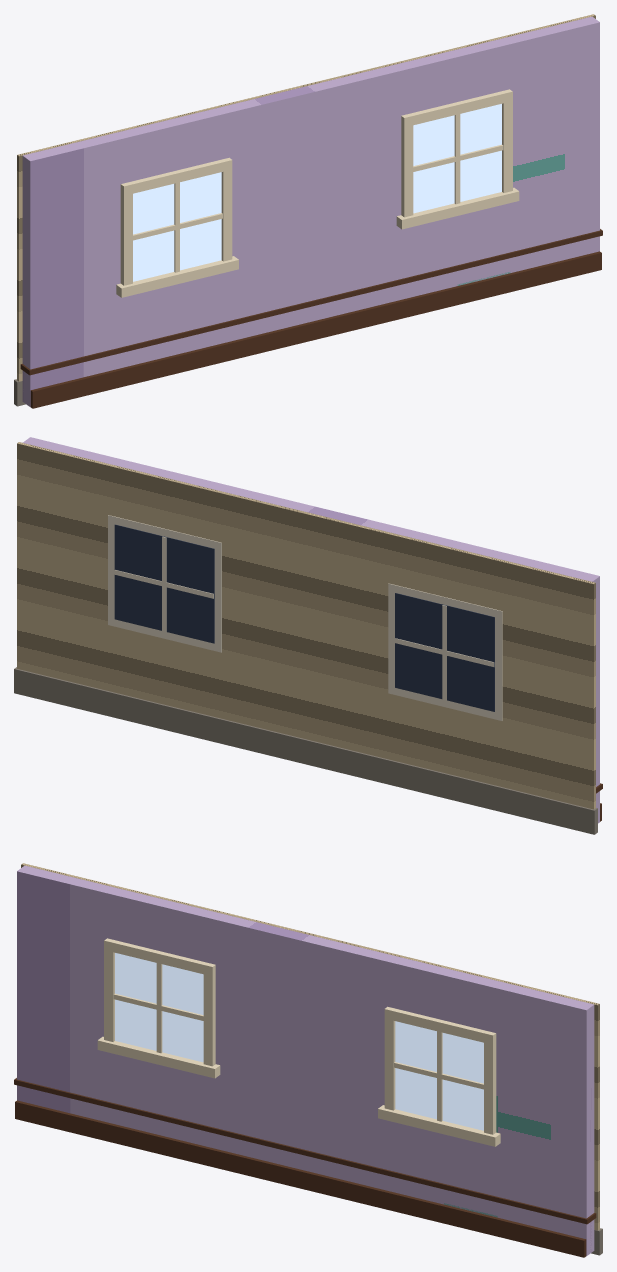
The model's file is wing_north.glb.
3 views of the same model, one above another, from view 1: azimuth 30°, elevation 25°; view 2: azimuth 150°, elevation 25°; view 3: azimuth 330°, elevation 25° (orthographic).
Visible parts, largest first — view 1: Box1, Box2, Box27, Box24, Box13, Box28, Box3, Box21, Box10, Box9, Box20, Box23 (+7 smaller); view 2: Box3, Box4, Box17, Box6, Box1, Box5, Box16, Box19, Box8; view 3: Box1, Box2, Box27, Box13, Box24, Box28, Box3, Box10, Box21, Box20, Box9, Box11 (+7 smaller).
Part boxes in pixels (left/top/right/bottom): Box1: left=22, top=16, right=599, bottom=407; Box2: left=30, top=251, right=601, bottom=408; Box27: left=22, top=236, right=599, bottom=405; Box24: left=413, top=104, right=501, bottom=213; Box13: left=133, top=172, right=221, bottom=281; Box28: left=20, top=229, right=602, bottom=375; Box3: left=17, top=14, right=595, bottom=381; Box21: left=396, top=187, right=519, bottom=229; Box10: left=116, top=256, right=238, bottom=297; Box9: left=120, top=157, right=232, bottom=195; Box20: left=401, top=89, right=512, bottom=127; Box23: left=401, top=125, right=413, bottom=217; Box3: left=17, top=442, right=595, bottom=809; Box4: left=14, top=667, right=597, bottom=834; Box17: left=114, top=524, right=214, bottom=643; Box6: left=395, top=593, right=494, bottom=711; Box1: left=23, top=437, right=599, bottom=822; Box5: left=388, top=583, right=502, bottom=720; Box16: left=108, top=515, right=221, bottom=652; Box19: left=114, top=570, right=213, bottom=598; Box8: left=395, top=638, right=494, bottom=666; Box1: left=17, top=865, right=594, bottom=1255; Box2: left=15, top=1100, right=586, bottom=1257; Box27: left=17, top=1085, right=593, bottom=1254; Box13: left=115, top=953, right=203, bottom=1062; Box24: left=395, top=1021, right=483, bottom=1130; Box28: left=14, top=1078, right=596, bottom=1224; Box3: left=21, top=863, right=599, bottom=1230; Box10: left=97, top=1036, right=220, bottom=1078; Box21: left=378, top=1105, right=500, bottom=1146; Box20: left=384, top=1006, right=496, bottom=1044; Box9: left=104, top=938, right=215, bottom=976; Box11: left=203, top=974, right=215, bottom=1066.
Bounding box in the file's own units: 6.42 × 2.64 × 0.31.
8 materials, 2 textured.
